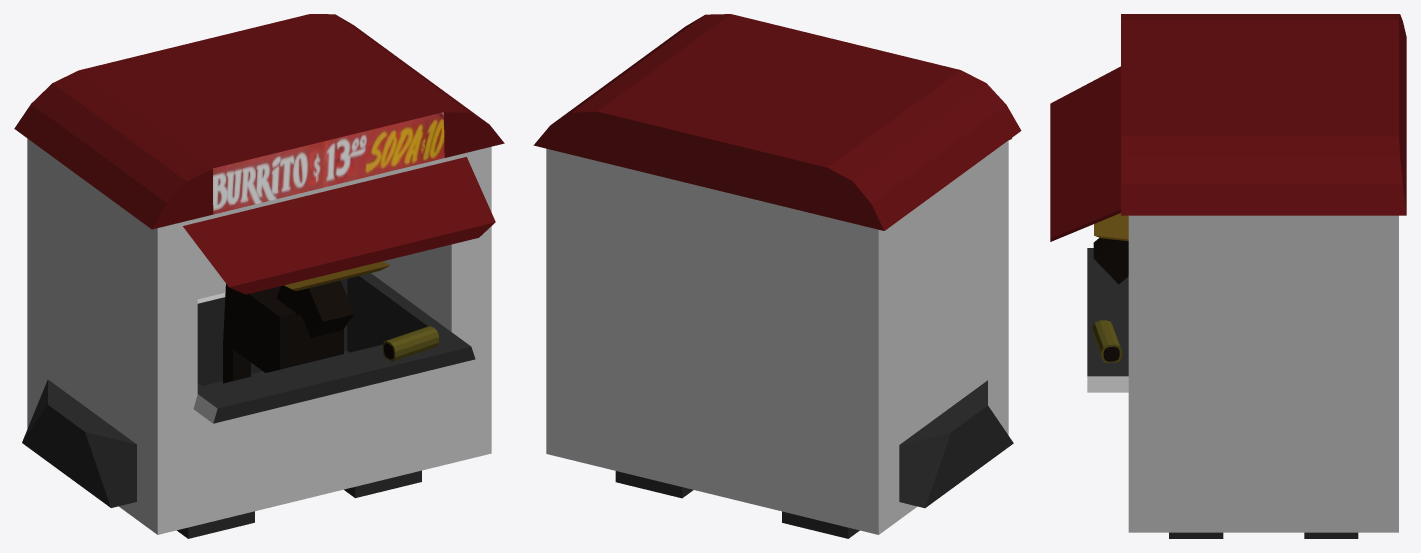
The model's file is Burritos.obj.
The picture shows the model from 3 angles, left to right: view 1: azimuth 30°, elevation 25°; view 2: azimuth 150°, elevation 25°; view 3: azimuth 270°, elevation 25°; orthographic projection. The views are drawn at different scales.
Parts seen in each view (by area): view 1: Cube.007_Material, Cube.007_Material.007, Cube.007_Material.009, Cube.007_Material.013, Cube.007_Material.016, Cube.007_Material.025, Cube.007_Material.024; view 2: Cube.007_Material, Cube.007_Material.007, Cube.007_Material.009; view 3: Cube.007_Material, Cube.007_Material.007, Cube.007_Material.009, Cube.007_Material.016, Cube.007_Material.024, Cube.007_Material.025.
Part boxes in pixels (left/top/right/bottom): Cube.007_Material: left=27, top=138, right=491, bottom=534; Cube.007_Material.007: left=14, top=14, right=504, bottom=294; Cube.007_Material.009: left=22, top=273, right=475, bottom=538; Cube.007_Material.013: left=213, top=112, right=444, bottom=214; Cube.007_Material.016: left=223, top=280, right=354, bottom=383; Cube.007_Material.025: left=382, top=326, right=438, bottom=361; Cube.007_Material.024: left=284, top=261, right=390, bottom=291; Cube.007_Material: left=546, top=140, right=1008, bottom=534; Cube.007_Material.007: left=533, top=14, right=1021, bottom=230; Cube.007_Material.009: left=615, top=380, right=1013, bottom=538; Cube.007_Material: left=1087, top=215, right=1398, bottom=532; Cube.007_Material.007: left=1050, top=14, right=1406, bottom=241; Cube.007_Material.009: left=1087, top=248, right=1358, bottom=538; Cube.007_Material.016: left=1093, top=237, right=1128, bottom=284; Cube.007_Material.024: left=1094, top=213, right=1128, bottom=241; Cube.007_Material.025: left=1092, top=320, right=1121, bottom=362.
Bounding box in the file's own units: 1.54 × 1.55 × 1.24.
